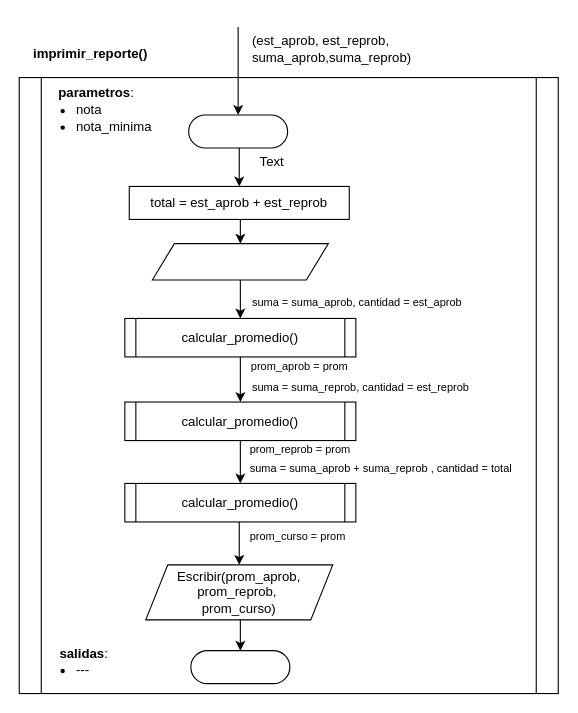
Some shapes in this 578 by 713 pixel diagram are drawn without their labels. The shapes that lost their labels are listed below. From the top down, each one's box as (x1, y1, x2, y2) in pixels, then its label:
(188, 114, 288, 148): Inicio
(151, 243, 328, 280): Escribir(est_aprob, est_reprob)
(190, 650, 290, 684): return
